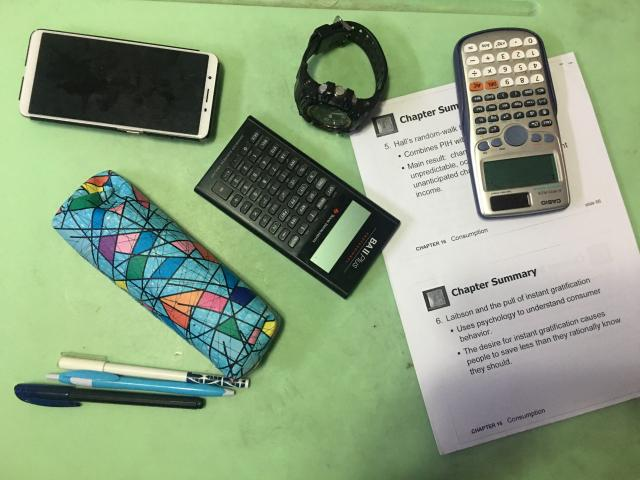Mobile phone: (18, 29, 226, 144)
Pen: (15, 356, 245, 410)
Watch: (293, 20, 390, 135)
paper: (339, 55, 640, 458)
